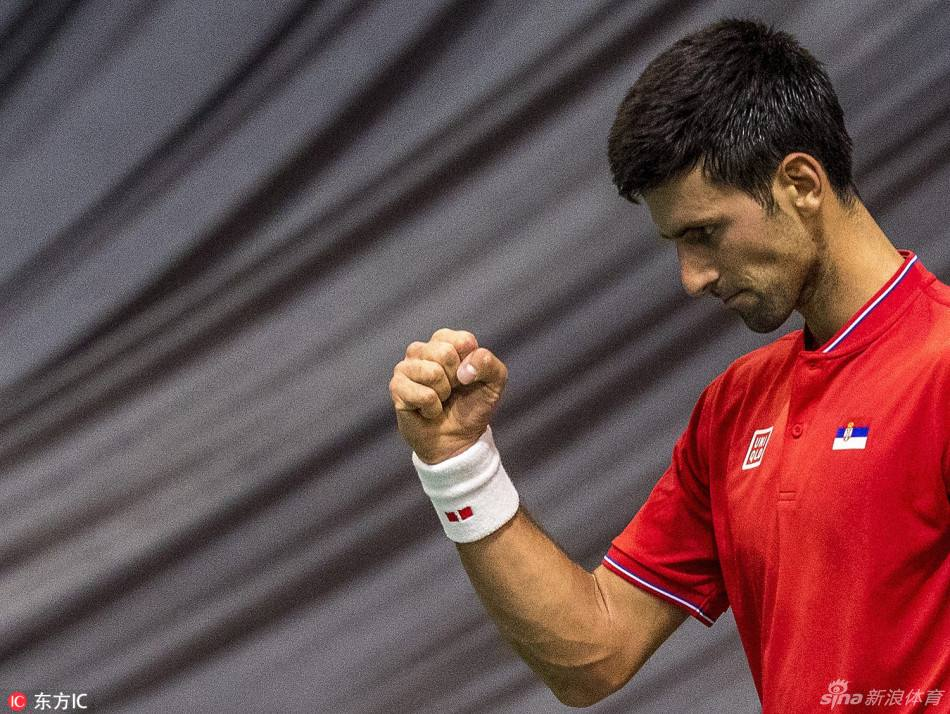no-phone: (384, 324, 512, 458)
